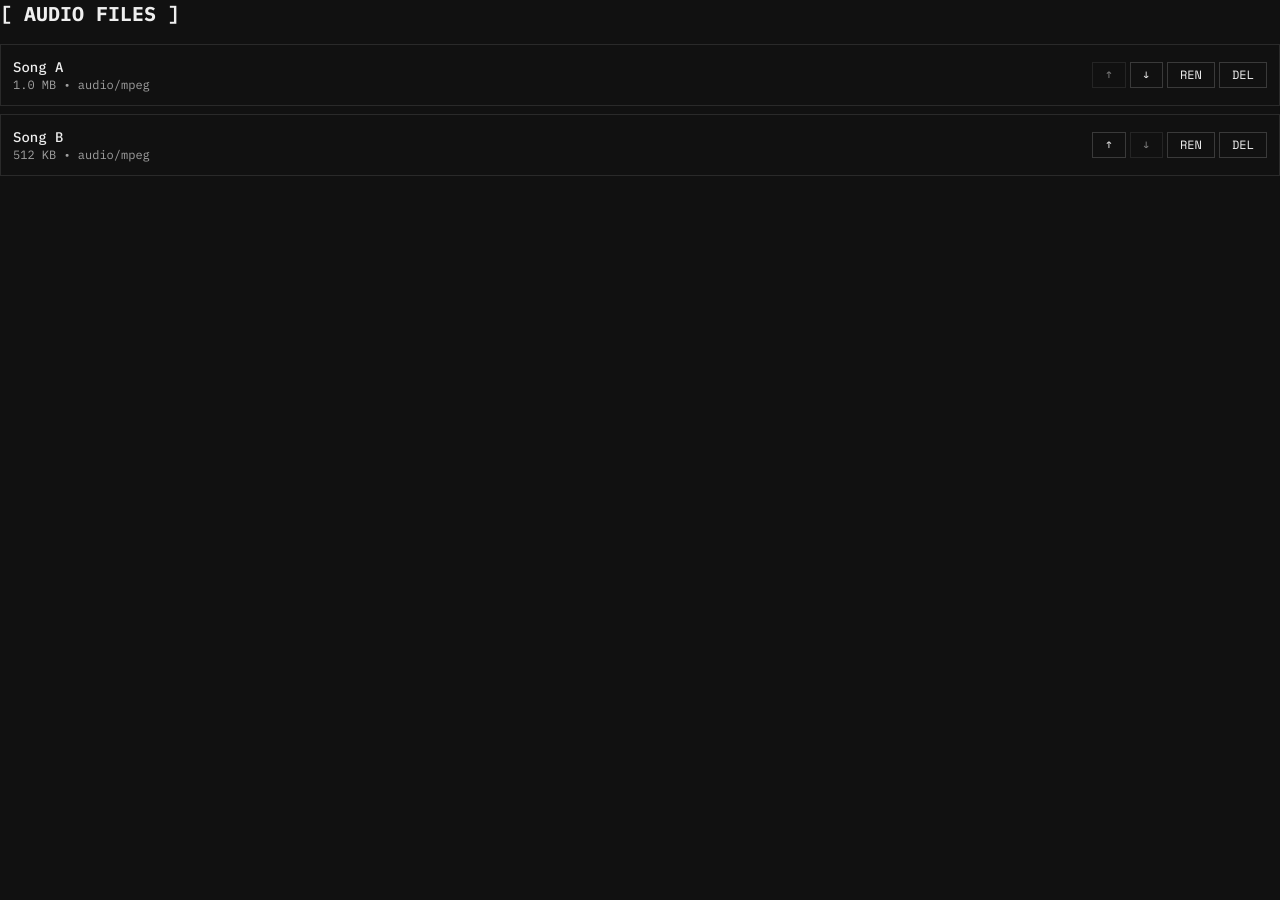
AudioManager › does not delete if user cancels confirmation modal
Expected: the text "Song A" is shown, [13,58,63,76]
Click the button "DEL" in the row of "Song A": (1243, 75) [1219,62,1267,88]
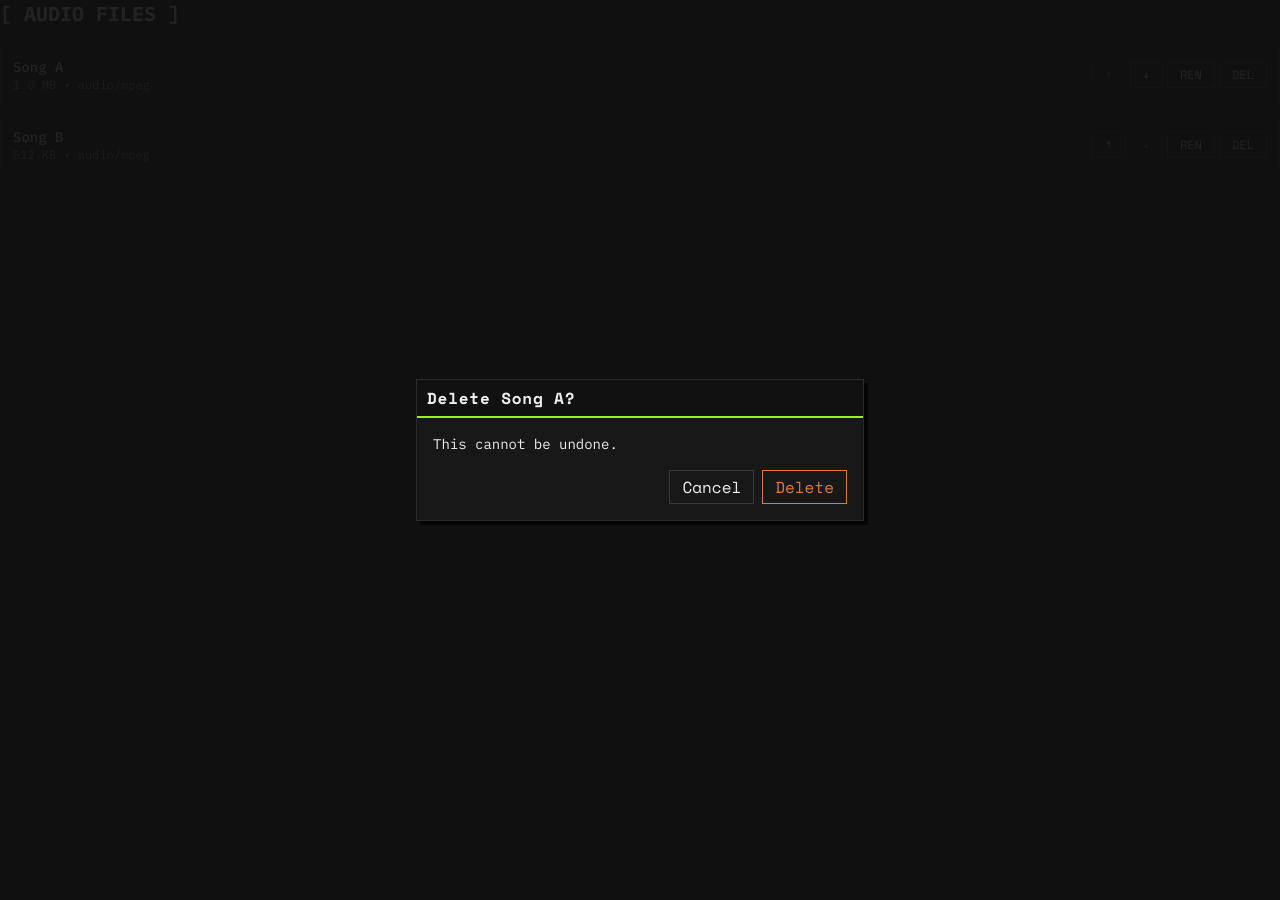
Expected: the button "Cancel" is shown
Click the button "Cancel": (712, 487) [670,470,754,504]
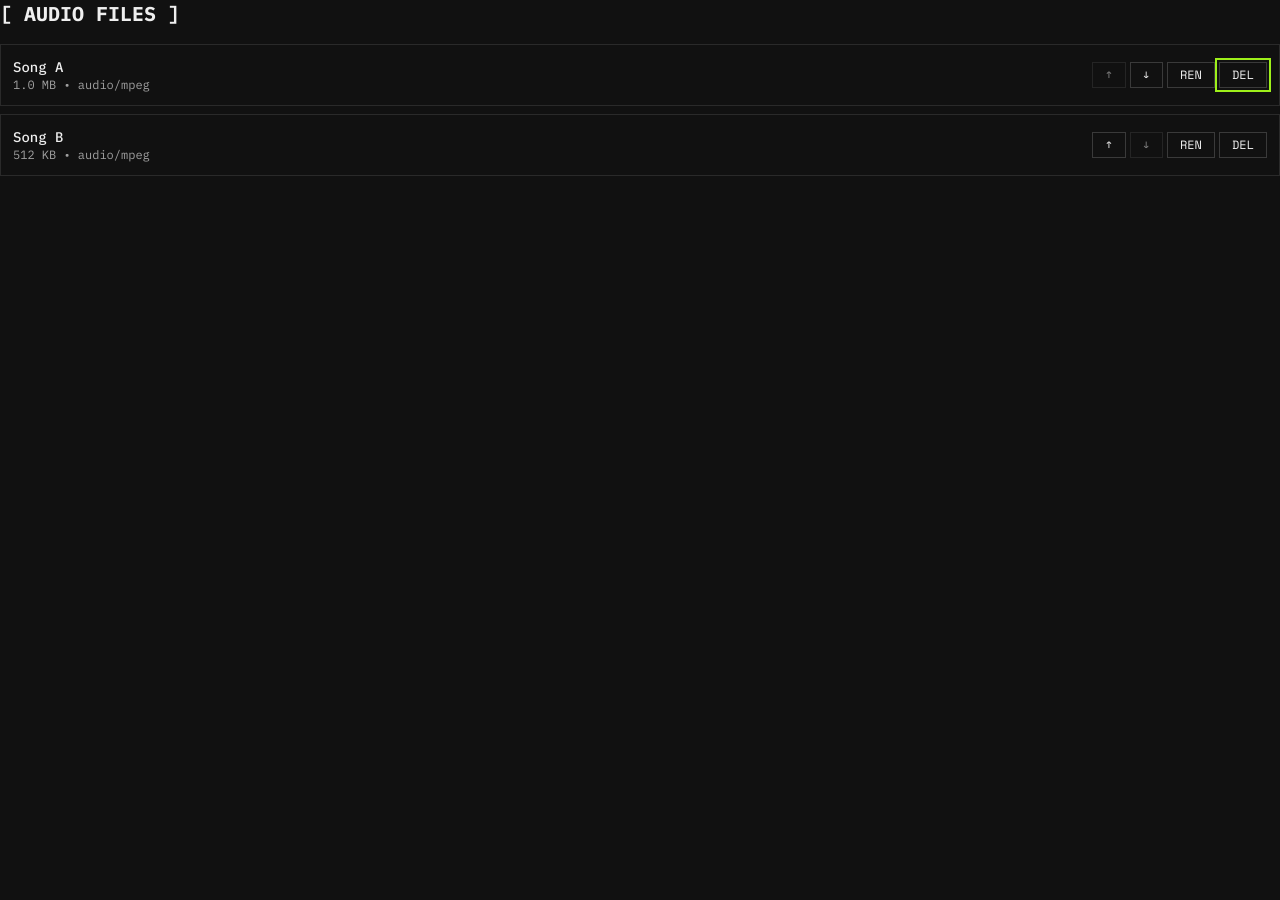
Expected: the text "Song A" is shown, [13,58,63,76]
Expected: the dialog is gone
